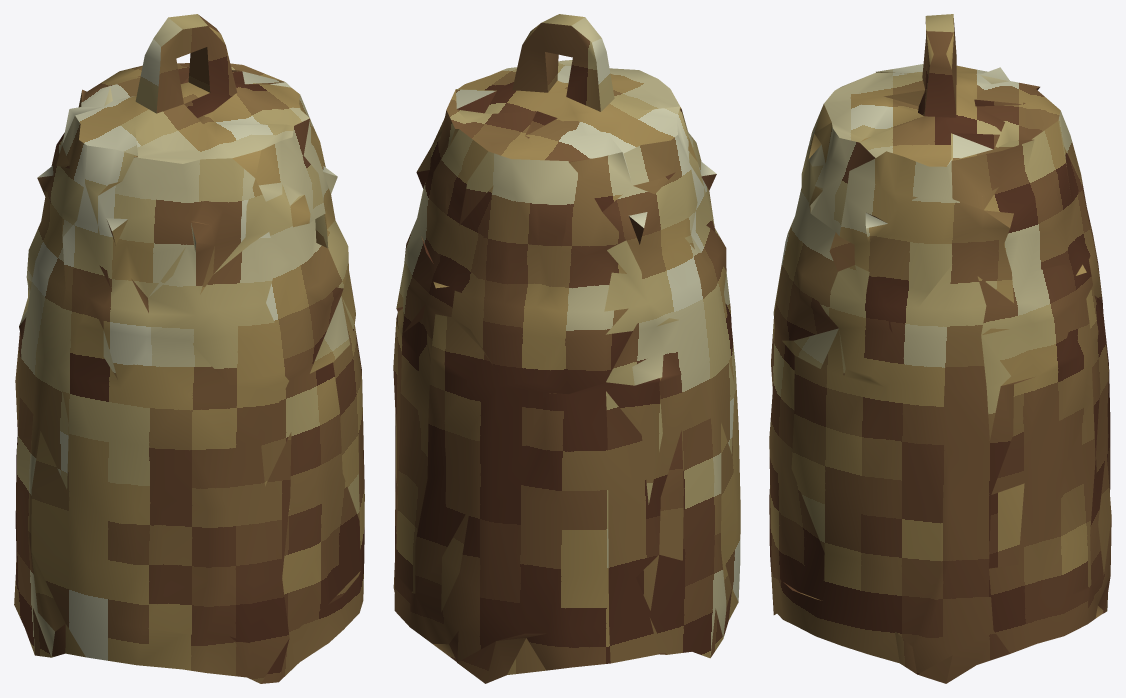
The model's file is call_bell.glb.
3 views of the same model, side by side, from view 1: azimuth 30°, elevation 25°; view 2: azimuth 150°, elevation 25°; view 3: azimuth 270°, elevation 25° (orthographic).
Parts seen in each view (by area): view 1: mesh; view 2: mesh; view 3: mesh.
Boxes of the visible parts, x1,y1,x2,y2 form: mesh: [14, 14, 364, 683]; mesh: [393, 14, 740, 683]; mesh: [769, 14, 1111, 683].
Size of the model in its own units: 0.0352 by 0.065 by 0.034.
1 material, 1 textured.
